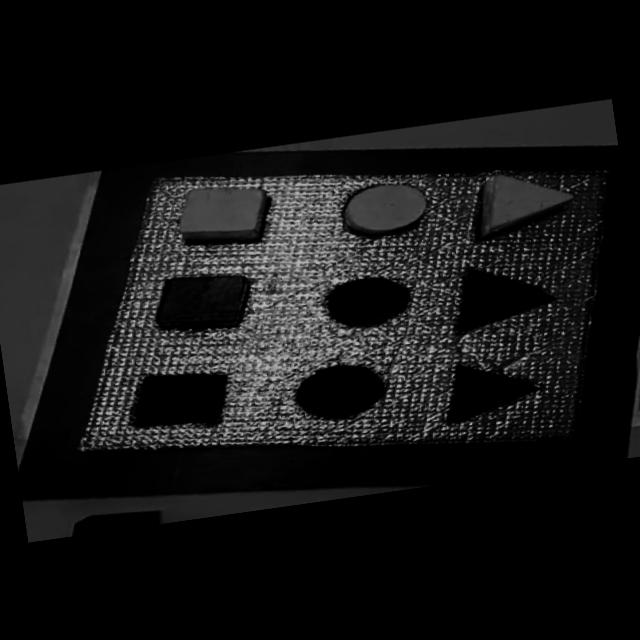bcube: (69, 506, 162, 536)
mtcircle: (289, 358, 392, 427), (321, 270, 416, 332)
mtcube: (126, 364, 236, 436)
mttriangle: (447, 258, 559, 338), (437, 352, 546, 426)
rcube: (148, 268, 254, 338)
wb: (70, 165, 610, 456)
ycircle: (338, 178, 432, 240)
ycube: (176, 178, 274, 248)
ytriangle: (476, 166, 575, 236)
